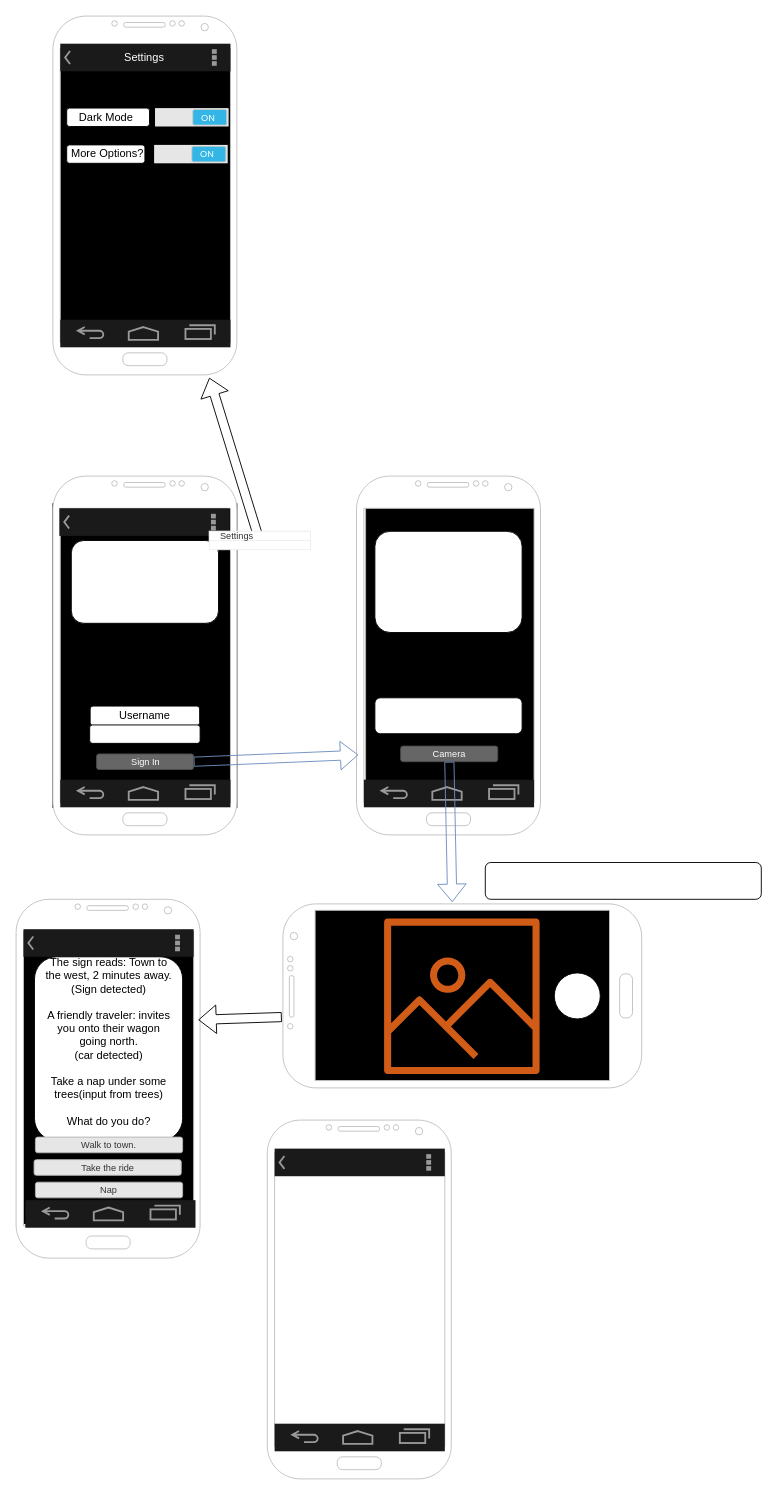
This 777x1495 diagram has some shape labels left out. Here are the shapes that lost their labels. From the top down, the centre of each, then its label:
At (144,581): "Picture Quest".
At (448,581): "Text Story. This is what you see etc, etc.".
At (144,733): "Password".
At (448,715): "Please take Pic prompt: City, Nature, Etc...".
At (622,880): "Here is where Clarifai keeps track of what objects were found".
